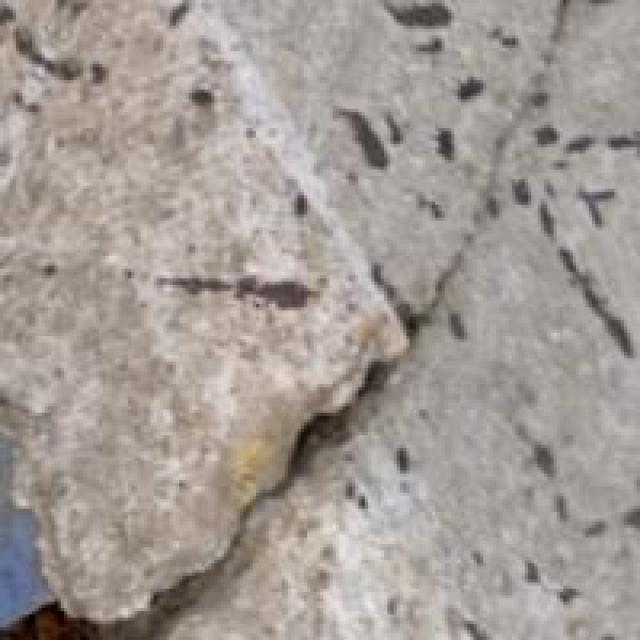crack: (0, 168, 530, 638)
